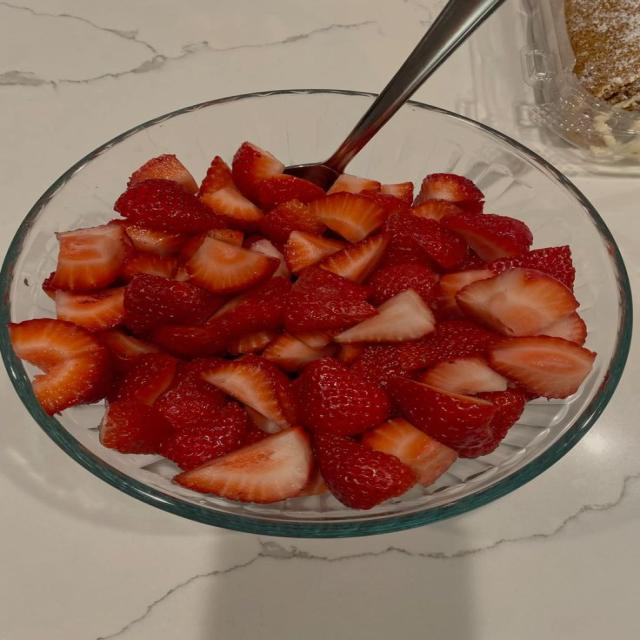strawberry sliced: (174, 428, 313, 503), (9, 319, 111, 414), (353, 320, 500, 384), (456, 269, 578, 335), (387, 378, 495, 449), (314, 434, 416, 509), (296, 357, 390, 435), (201, 355, 295, 427), (489, 336, 595, 398), (362, 419, 457, 486), (286, 268, 377, 336), (114, 179, 226, 233), (161, 403, 248, 470), (125, 275, 221, 332), (335, 290, 434, 343), (51, 225, 128, 292), (187, 238, 279, 294), (155, 358, 227, 429), (33, 350, 111, 414), (207, 278, 291, 337), (9, 319, 102, 370), (199, 156, 263, 228), (384, 213, 467, 268), (459, 389, 526, 457), (442, 212, 533, 261), (100, 400, 171, 454), (310, 193, 386, 242), (488, 246, 574, 289), (113, 353, 177, 405), (421, 357, 506, 395), (320, 235, 388, 282), (232, 142, 284, 201), (260, 200, 326, 245), (55, 288, 125, 330), (369, 263, 438, 305), (263, 333, 336, 372), (127, 154, 198, 193), (437, 269, 494, 317), (96, 329, 159, 372), (416, 174, 484, 213), (200, 188, 263, 230), (284, 231, 346, 273), (257, 175, 325, 211), (153, 326, 228, 358), (180, 229, 243, 262), (125, 224, 187, 256), (120, 252, 178, 281), (249, 239, 290, 279), (198, 156, 235, 196), (540, 313, 586, 345), (380, 241, 430, 268), (360, 190, 409, 216), (227, 331, 278, 355), (455, 250, 504, 273), (412, 199, 463, 221), (245, 406, 283, 435), (327, 174, 380, 194), (243, 408, 269, 446), (299, 469, 328, 497), (294, 331, 333, 350), (380, 182, 413, 204), (337, 344, 366, 366), (207, 229, 244, 246), (42, 273, 56, 300)
